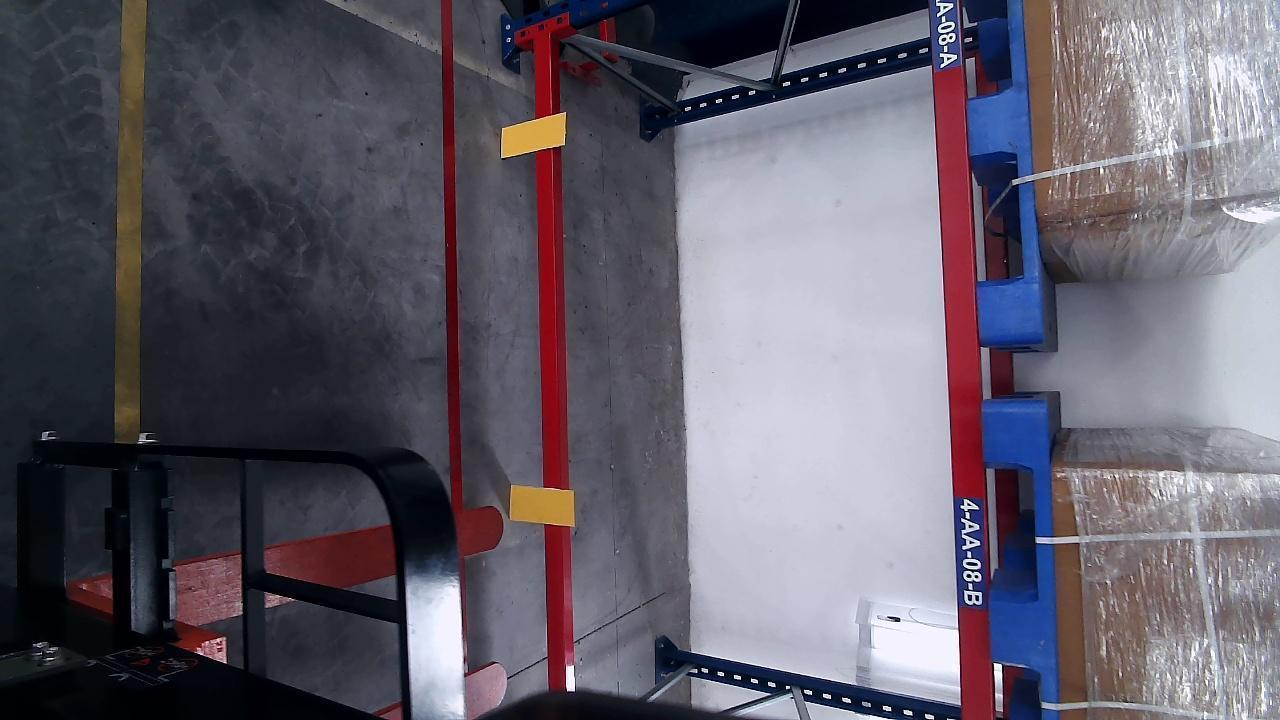red_line: (438, 2, 464, 511)
yellow_line: (115, 0, 148, 440)
